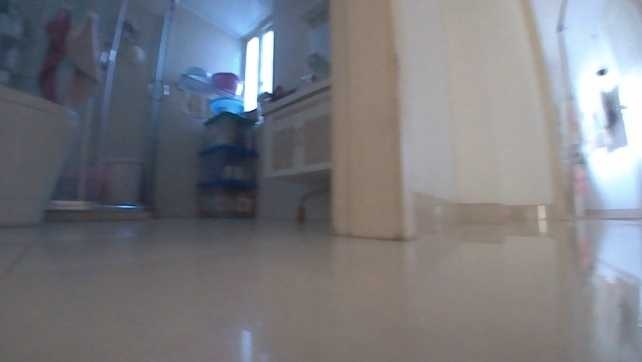toilet: (0, 84, 82, 228)
